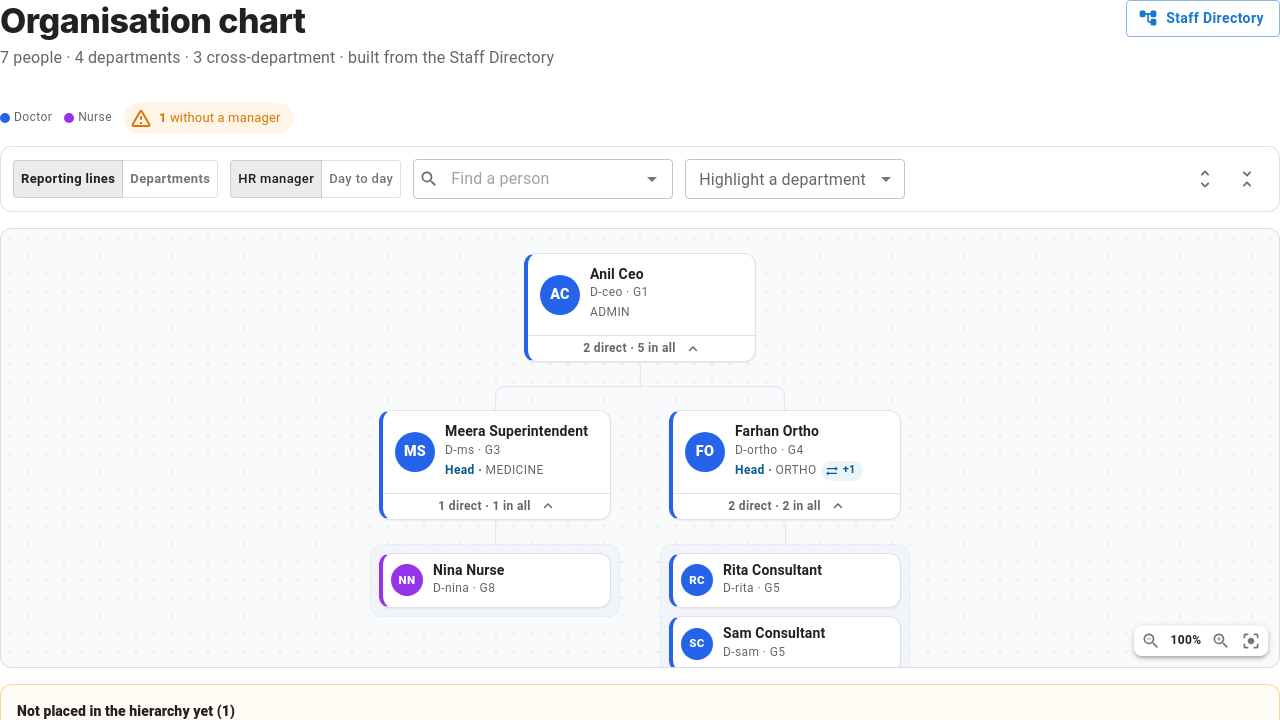
Test: the organisation chart page › the departments view groups them under who oversees them
Click the button "Departments" at (170, 179), box [122,160,218,198]
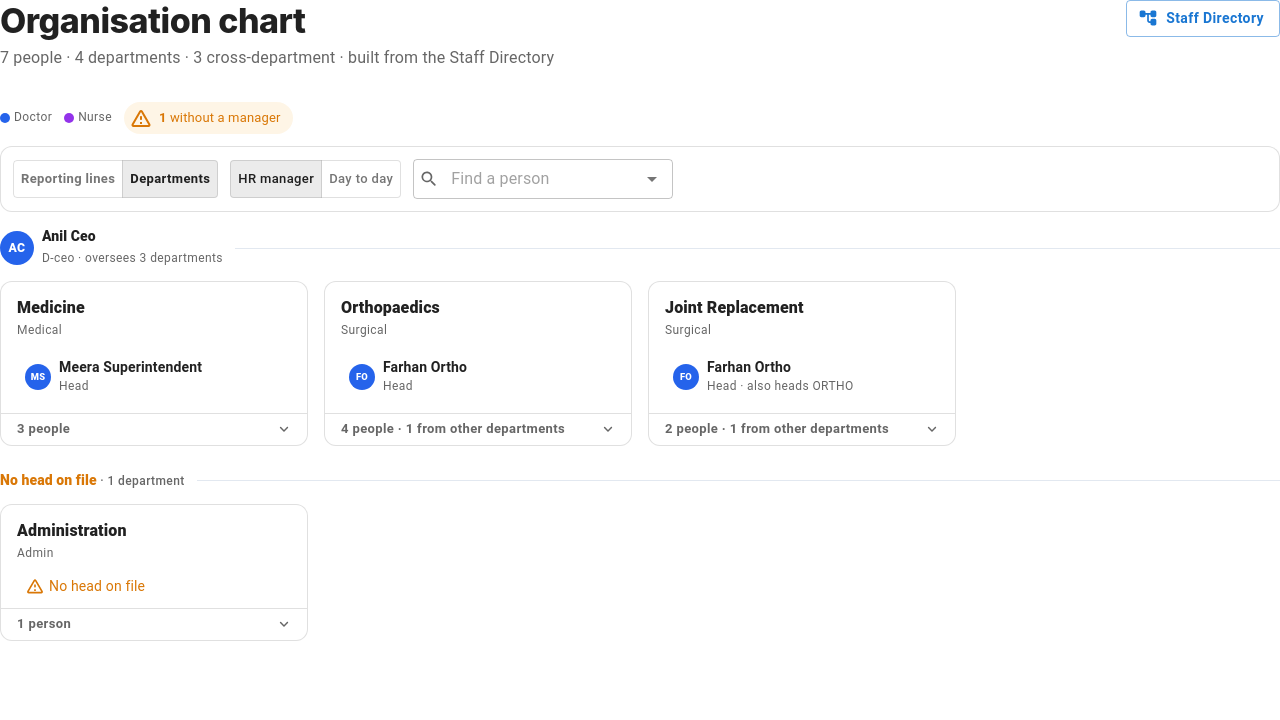
Now the text "D-ceo · oversees 3 departments" is shown, box [42,251,223,265]
Now the heading "No head on file · 1 department" is shown, box [0,470,185,492]
